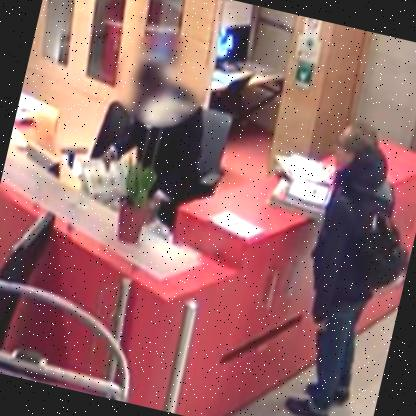person: (254, 111, 416, 416)
